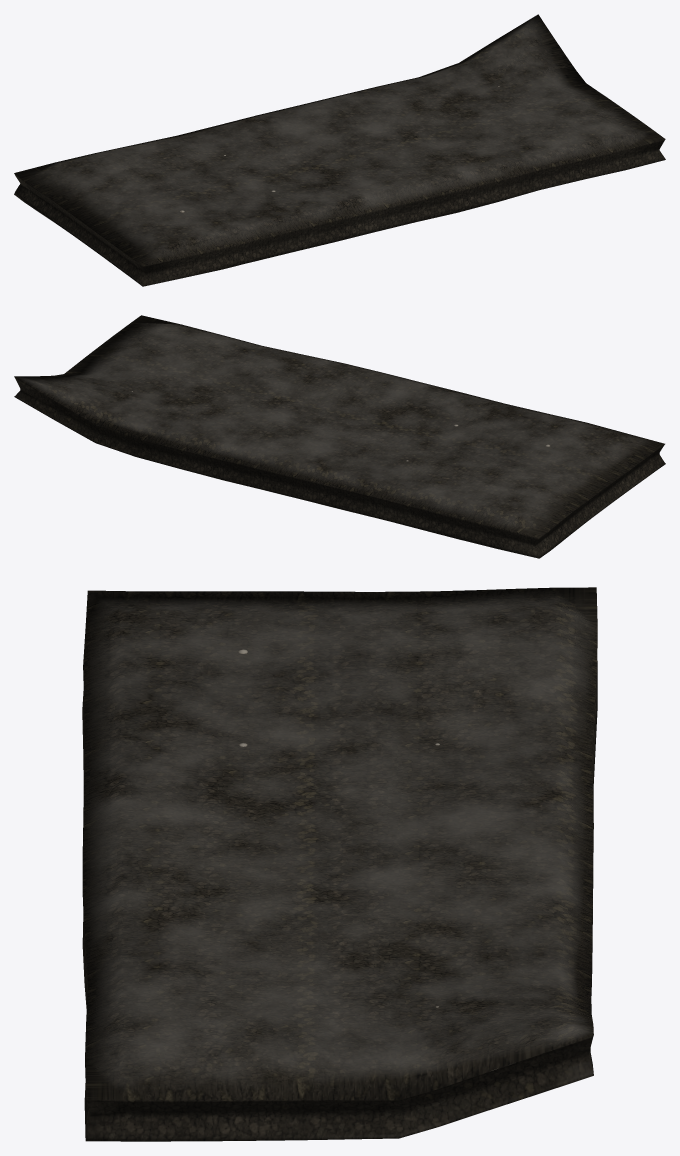
The model's file is Mattress.fbx.
3 renders of one model, top to bottom at view 1: azimuth 30°, elevation 25°; view 2: azimuth 150°, elevation 25°; view 3: azimuth 270°, elevation 25°, orthographic. The views are drawn at different scales.
Parts seen in each view (by area): view 1: Mattress_Mesh; view 2: Mattress_Mesh; view 3: Mattress_Mesh.
Part boxes in pixels (bbox=[...]): Mattress_Mesh: bbox=[14, 14, 665, 286]; Mattress_Mesh: bbox=[14, 315, 665, 558]; Mattress_Mesh: bbox=[82, 587, 597, 1141].
Bounding box in the file's own units: 1.87 × 0.2377 × 0.7946.
